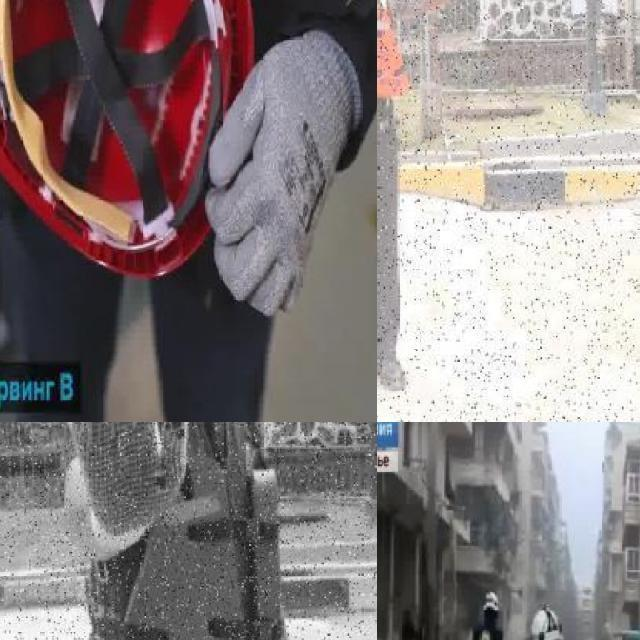apron: (205, 18, 361, 320), (64, 422, 189, 552)
